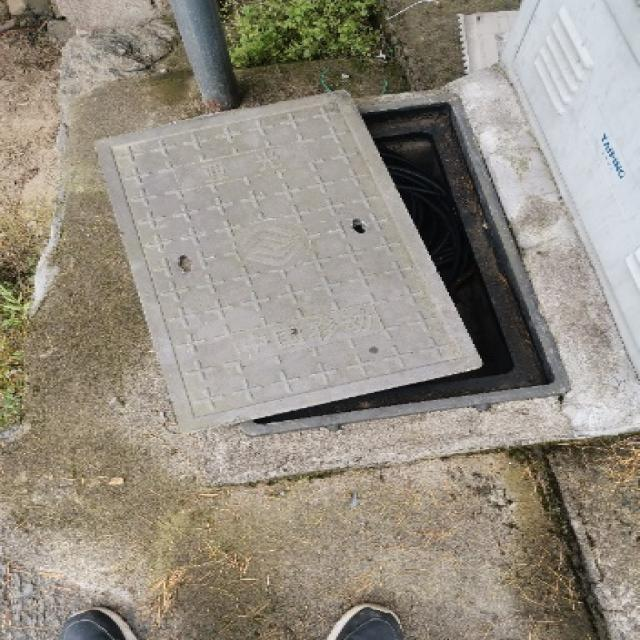Faulty: (76, 91, 611, 453)
